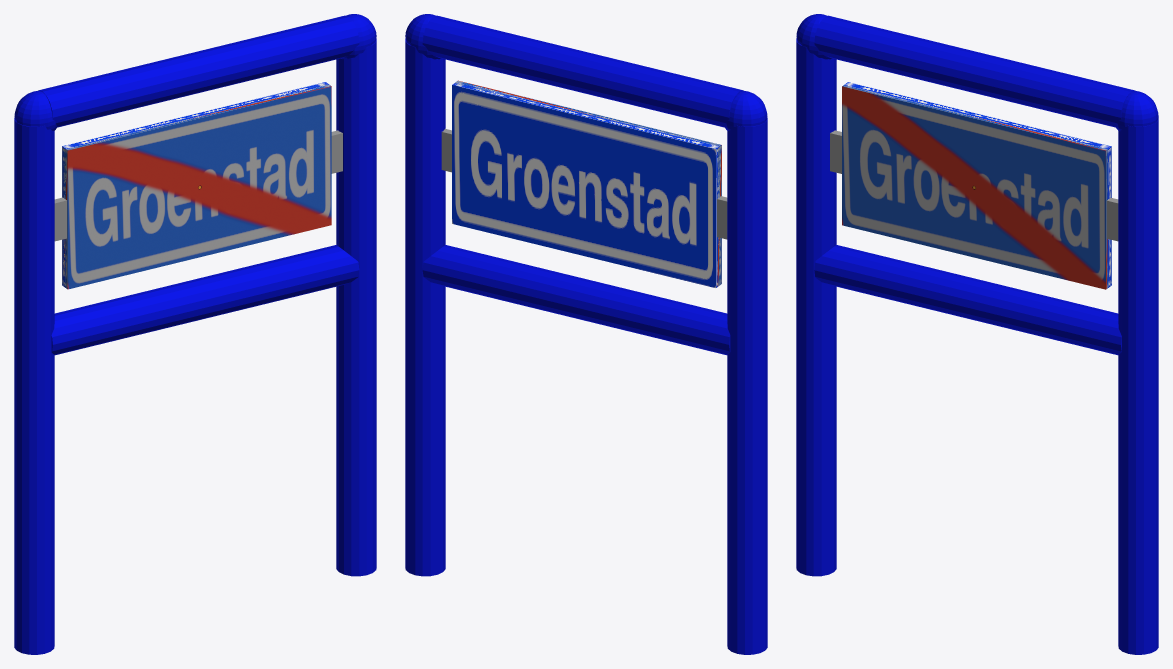
The model's file is Stadbord1fbx.fbx.
3 views of the same model, side by side, from view 1: azimuth 30°, elevation 25°; view 2: azimuth 150°, elevation 25°; view 3: azimuth 330°, elevation 25° (orthographic).
Visible parts, largest first — view 1: Cylinder.003, Cube.004, Cube, Cube.001; view 2: Cylinder.003, Cube, Cube.004, Cube.001; view 3: Cylinder.003, Cube.004, Cube, Cube.001.
Boxes of the visible parts, bbox=[...] form: Cylinder.003: bbox=[14, 14, 376, 654]; Cube.004: bbox=[63, 84, 331, 289]; Cube: bbox=[62, 82, 329, 287]; Cube.001: bbox=[54, 130, 342, 241]; Cylinder.003: bbox=[405, 14, 767, 654]; Cube: bbox=[452, 82, 719, 287]; Cube.004: bbox=[454, 80, 721, 286]; Cube.001: bbox=[441, 128, 727, 239]; Cylinder.003: bbox=[796, 14, 1158, 654]; Cube.004: bbox=[842, 85, 1107, 289]; Cube: bbox=[844, 82, 1111, 287]; Cube.001: bbox=[830, 130, 1118, 241].
Bounding box in the file's own units: 184 × 272 × 18.72.
